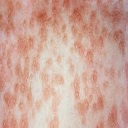Measles: (6, 9, 123, 122)
